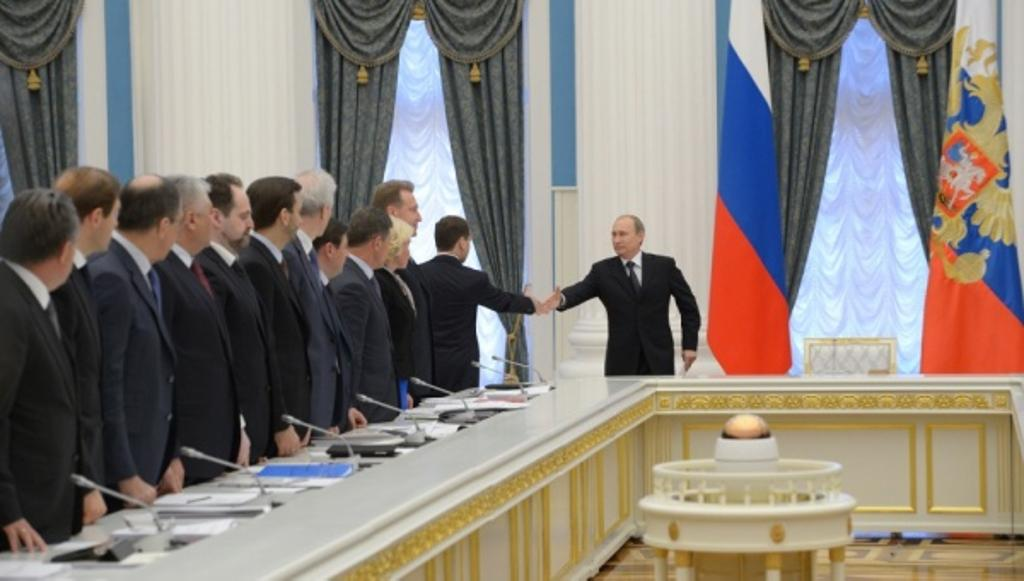face: (222, 185, 253, 244), (155, 197, 182, 260), (92, 195, 120, 251), (187, 192, 213, 247), (279, 191, 302, 239), (397, 191, 421, 235), (326, 233, 347, 274), (611, 222, 637, 254), (373, 234, 391, 267), (393, 238, 410, 267)
